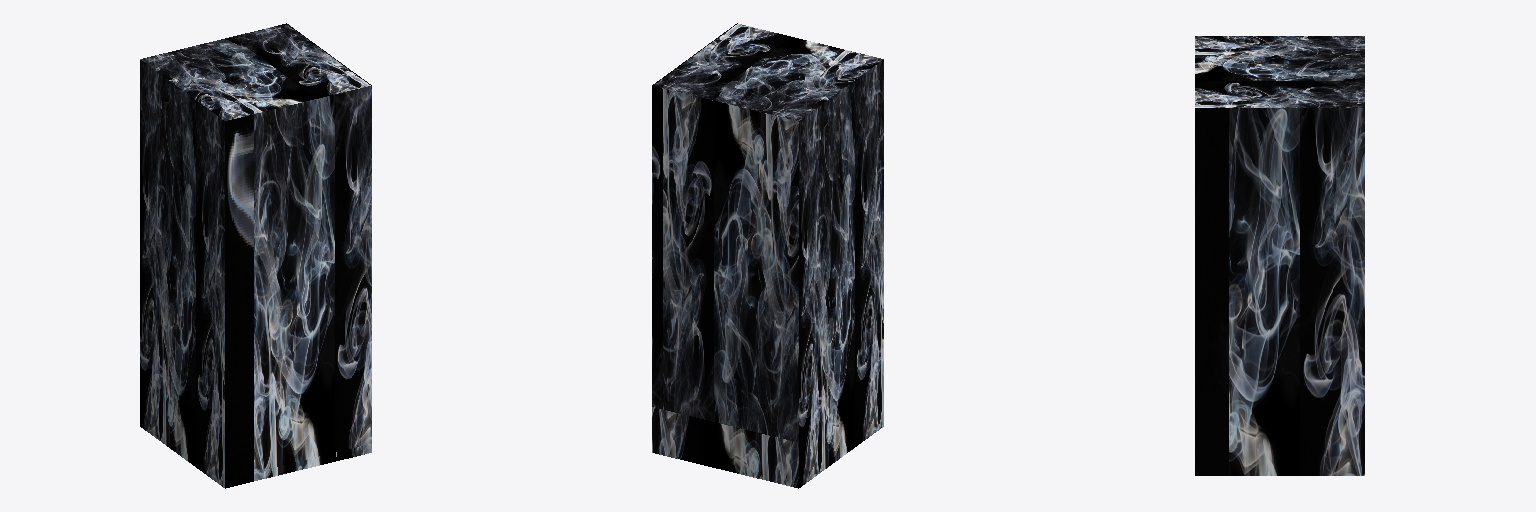
The picture shows the model from 3 angles: view 1: azimuth 30°, elevation 25°; view 2: azimuth 150°, elevation 25°; view 3: azimuth 270°, elevation 25°; orthographic projection.
Visible parts, largest first — view 1: pCube1; view 2: pCube1; view 3: pCube1.
Part boxes in pixels (left/top/right/bottom): pCube1: left=140, top=23, right=371, bottom=488; pCube1: left=652, top=23, right=883, bottom=488; pCube1: left=1195, top=36, right=1364, bottom=475.
Bounding box in the file's own units: 1 × 2.39 × 1.
1 materials, 1 textured.